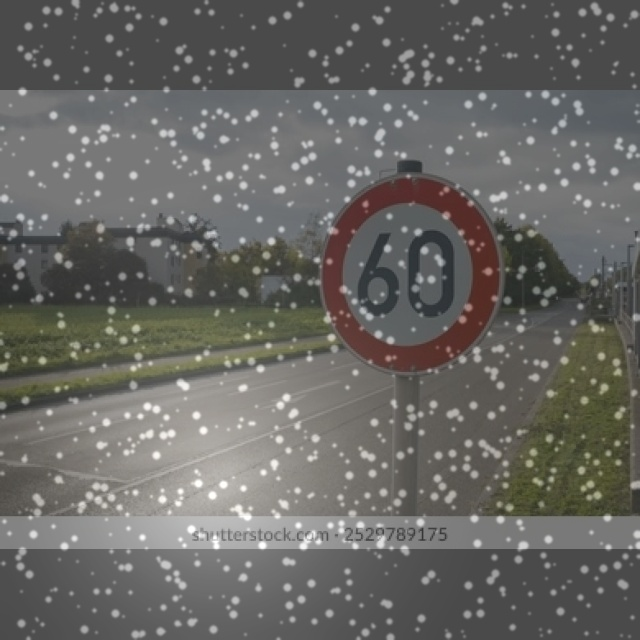Speed_Limit_60: (316, 174, 505, 372)
